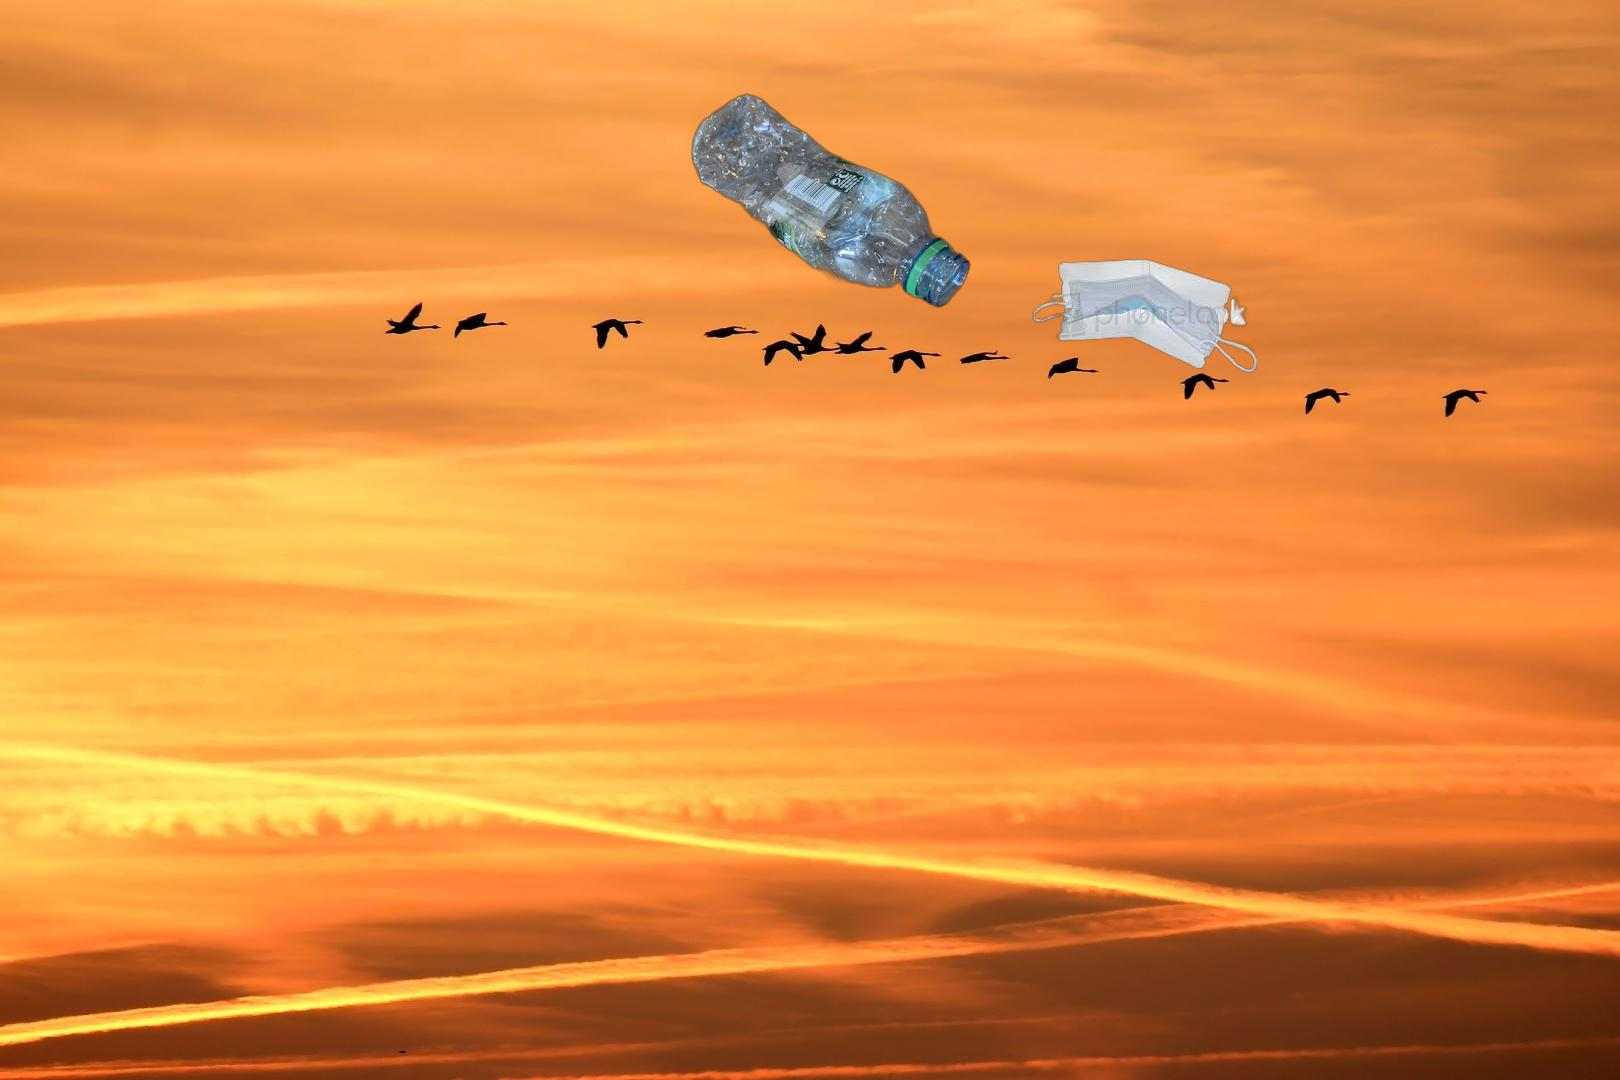plastic-bottles: (688, 90, 973, 311)
trash: (1032, 256, 1257, 375)
